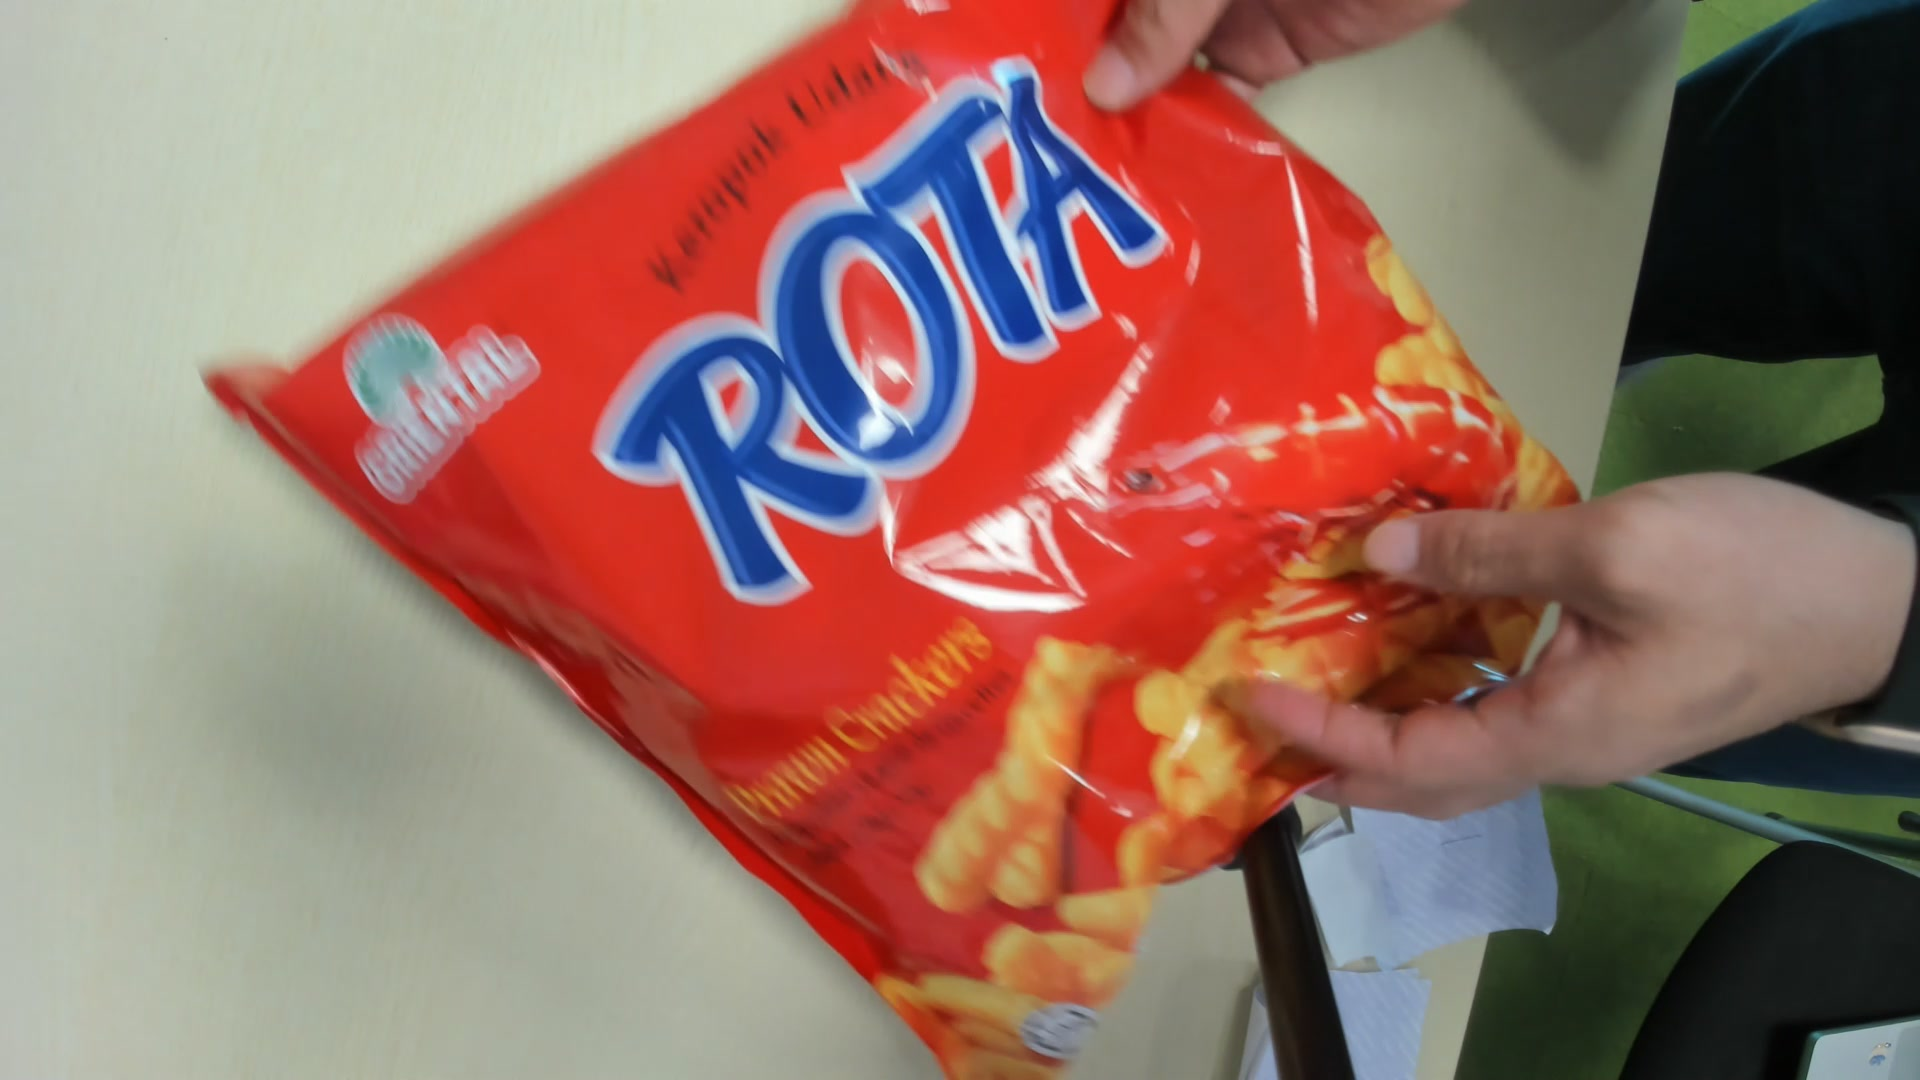PotatoChipsKeropok_100-199g_Halal_NonHealthy: (224, 3, 1609, 1080)
